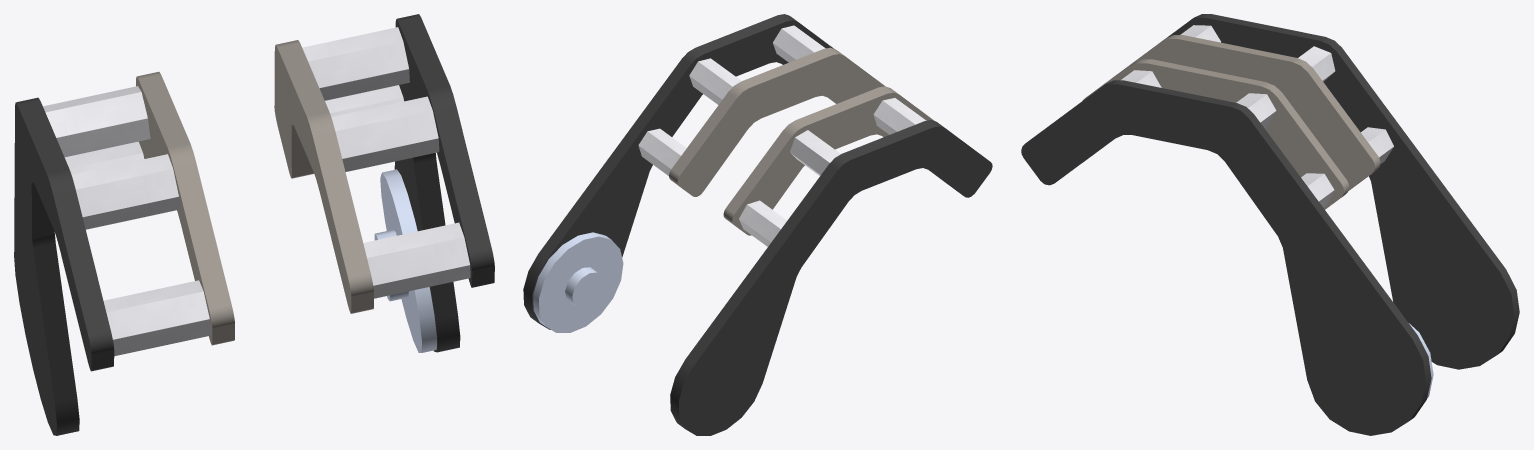
The model's file is r_graspB_link.dae.
3 views of the same model, side by side, from view 1: azimuth 30°, elevation 25°; view 2: azimuth 150°, elevation 25°; view 3: azimuth 270°, elevation 25° (orthographic). The views are drawn at different scales.
Parts seen in each view (by area): view 1: Actor0; view 2: Actor0; view 3: Actor0.
Part boxes in pixels (bbox=[...]): Actor0: bbox=[14, 14, 494, 435]; Actor0: bbox=[523, 14, 992, 435]; Actor0: bbox=[1021, 14, 1519, 435].
Size of the model in its own units: 0.0845 by 0.0698 by 0.0959.
4 materials, 1 textured.
